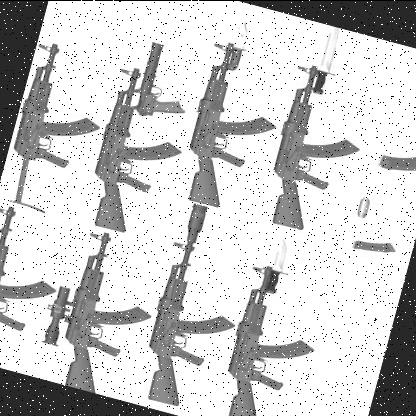rifle: (258, 20, 389, 242), (130, 201, 258, 416), (82, 38, 209, 243), (211, 232, 347, 416), (178, 15, 298, 215), (39, 226, 168, 401), (0, 38, 120, 225), (0, 206, 71, 376)
